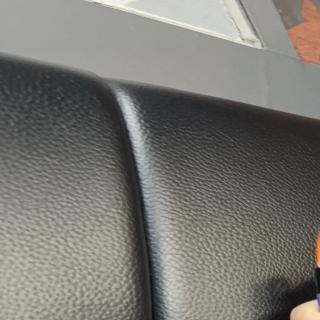fire: (315, 228, 320, 269)
